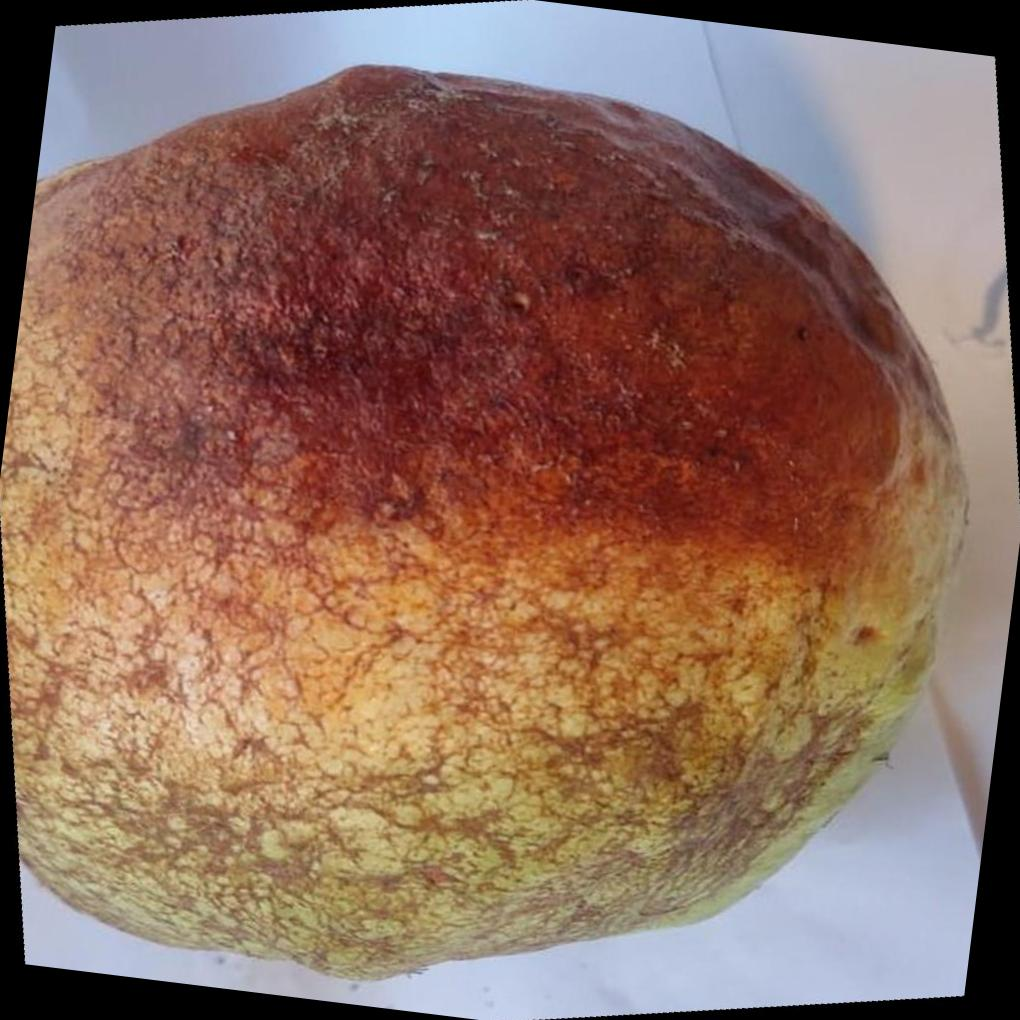FreshOrange: (0, 62, 975, 984)
